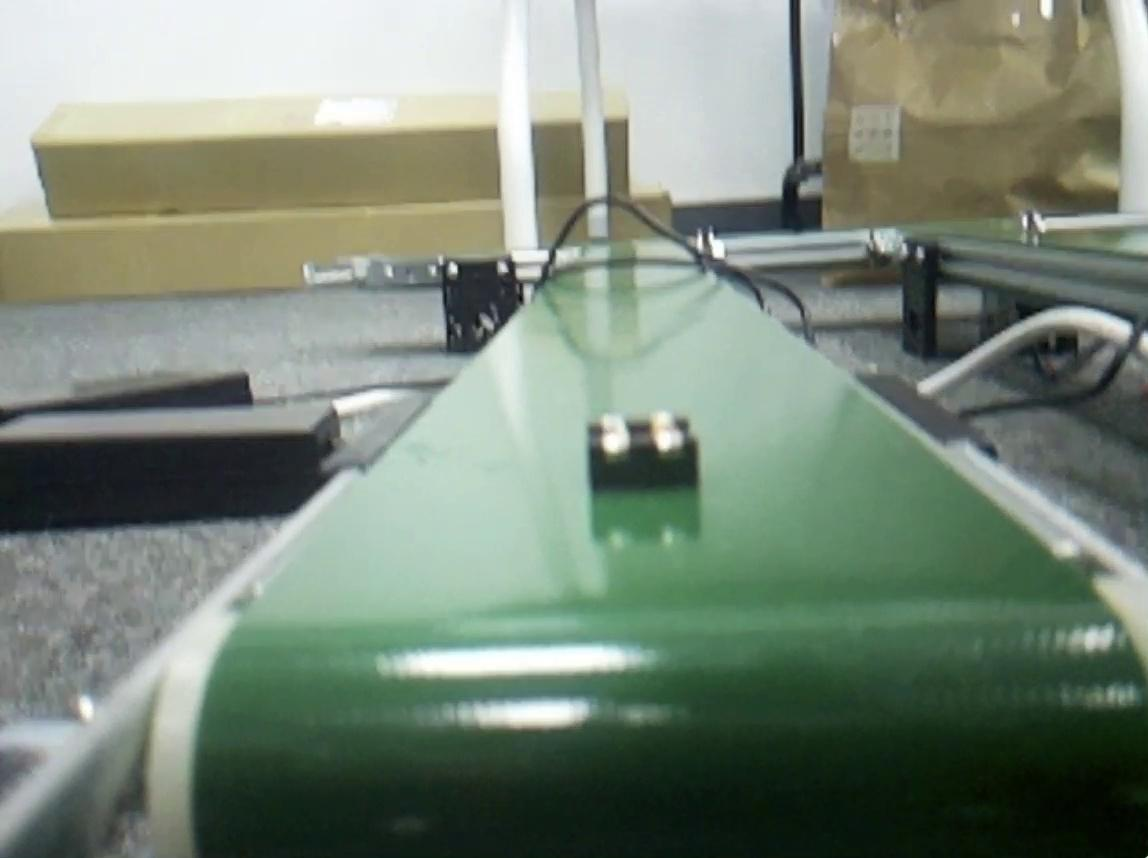inductor: (590, 417, 698, 495)
